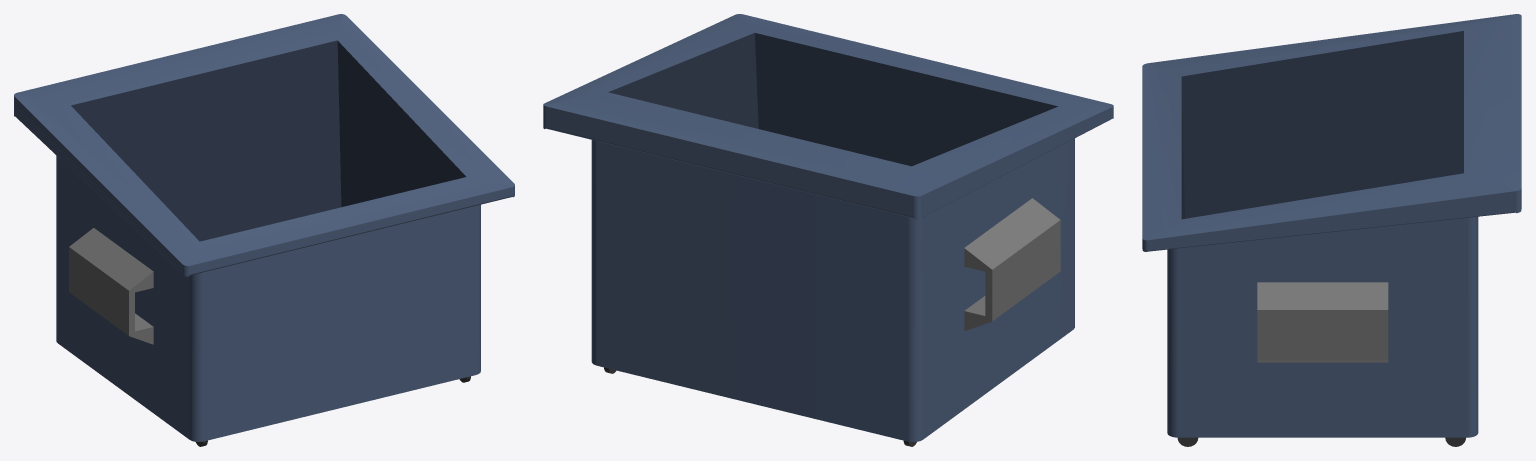
The model's file is sm_GarbageBin.fbx.
3 renders of one model, left to right at view 1: azimuth 30°, elevation 25°; view 2: azimuth 150°, elevation 25°; view 3: azimuth 270°, elevation 25°, orthographic. The views are drawn at different scales.
Visible parts, largest first — view 1: polySurface3; view 2: polySurface3; view 3: polySurface3.
Part boxes in pixels (x1,y1,x2,y2): polySurface3: (14, 14, 514, 446); polySurface3: (543, 14, 1113, 446); polySurface3: (1142, 14, 1521, 446).
Bounding box in the file's own units: 863 × 605 × 763.
